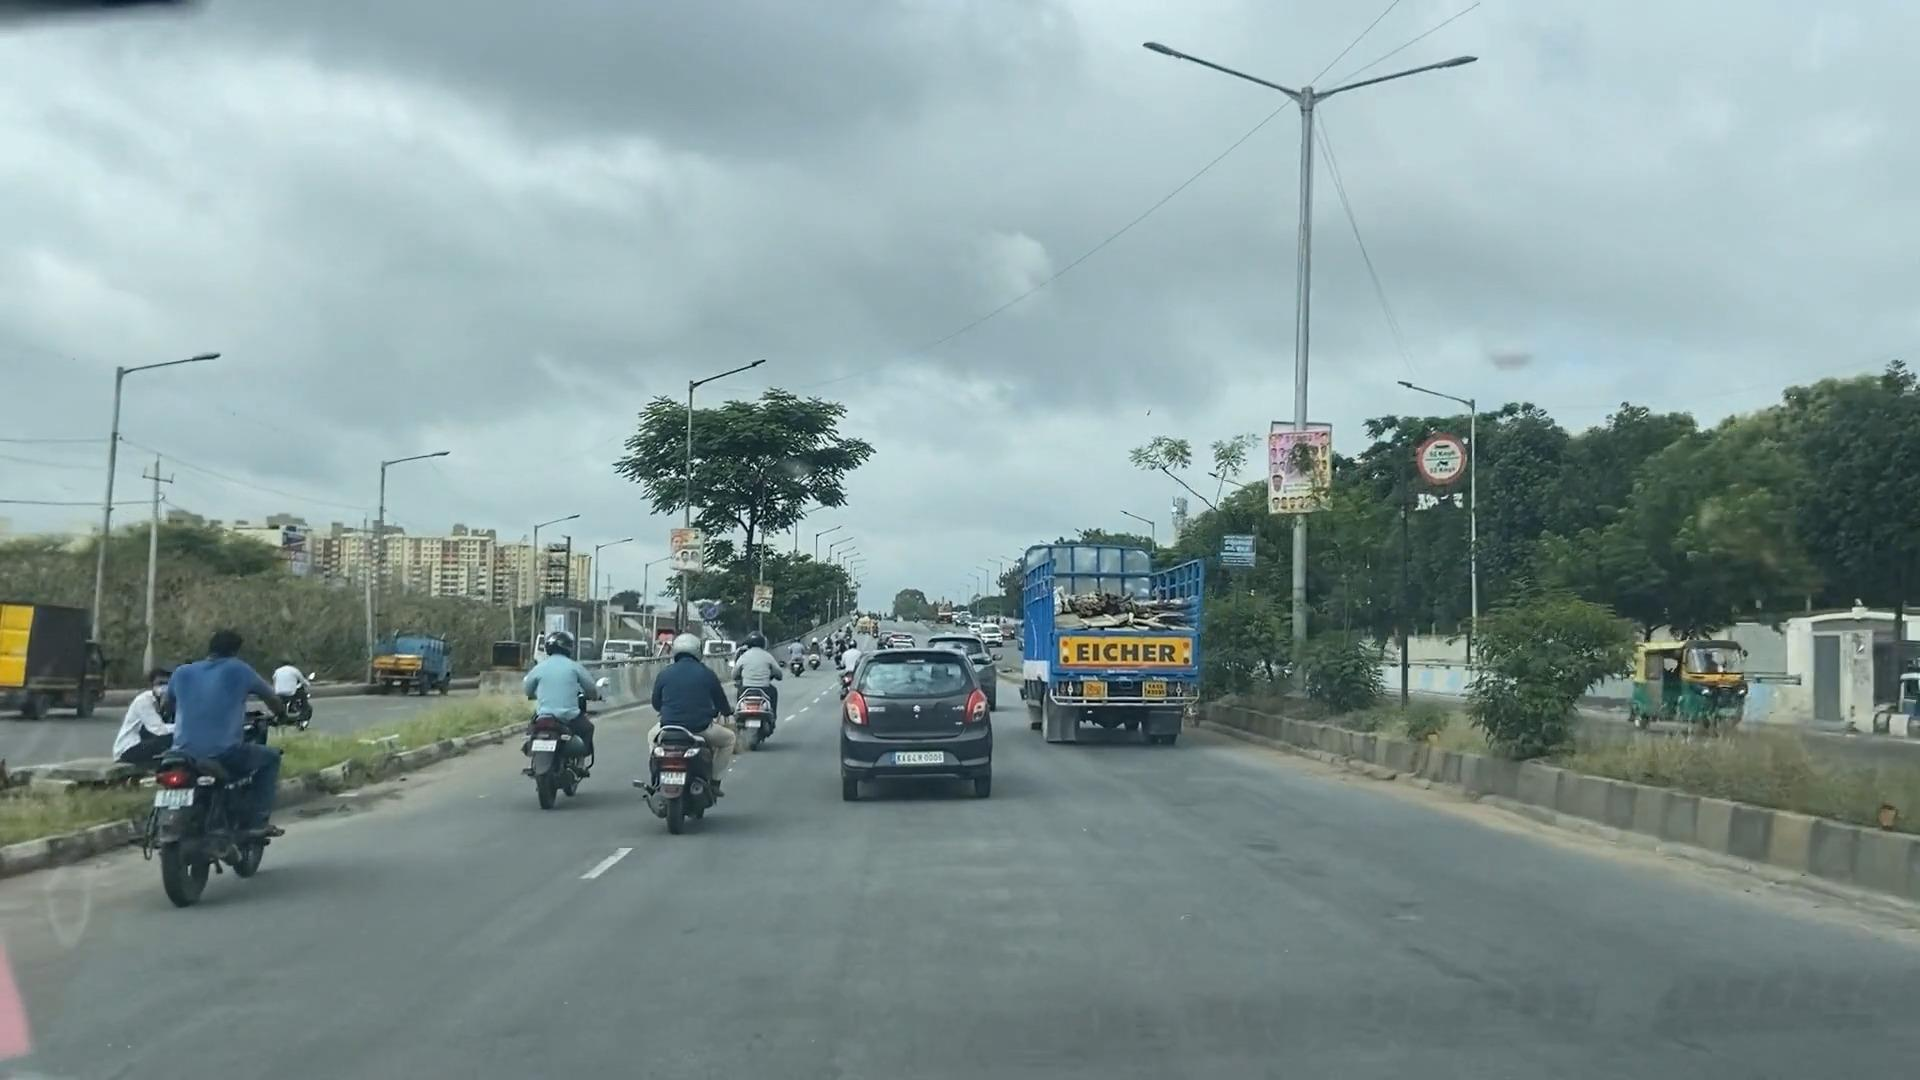HMV: (1034, 543, 1209, 729)
LMV: (177, 644, 302, 885), (840, 657, 996, 800), (637, 626, 724, 823), (533, 626, 576, 804), (742, 630, 770, 741)
